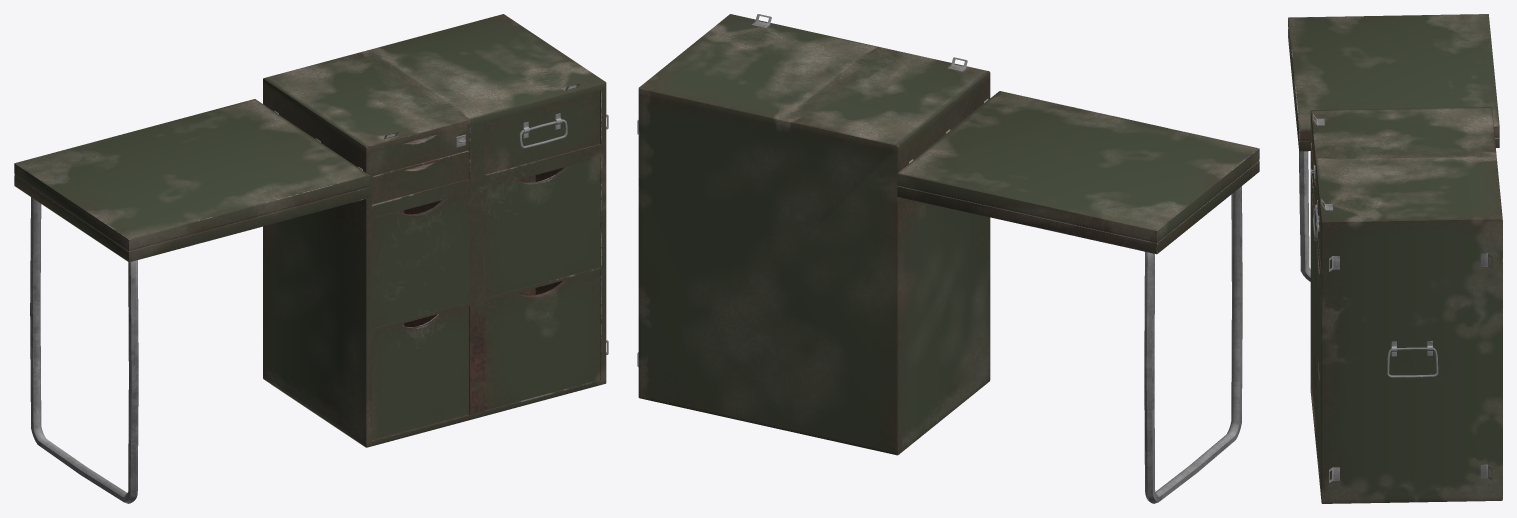
File: MilitaryFieldDesk.fbx
3 renders of one model, left to right at view 1: azimuth 30°, elevation 25°; view 2: azimuth 150°, elevation 25°; view 3: azimuth 270°, elevation 25°, orthographic. The views are drawn at different scales.
Parts seen in each view (by area): view 1: field desk; view 2: field desk; view 3: field desk.
Boxes of the visible parts, bbox=[...] form: field desk: bbox=[14, 14, 608, 503]; field desk: bbox=[637, 14, 1259, 503]; field desk: bbox=[1288, 14, 1502, 503].
Bounding box in the file's own units: 239 × 138 × 93.22.
